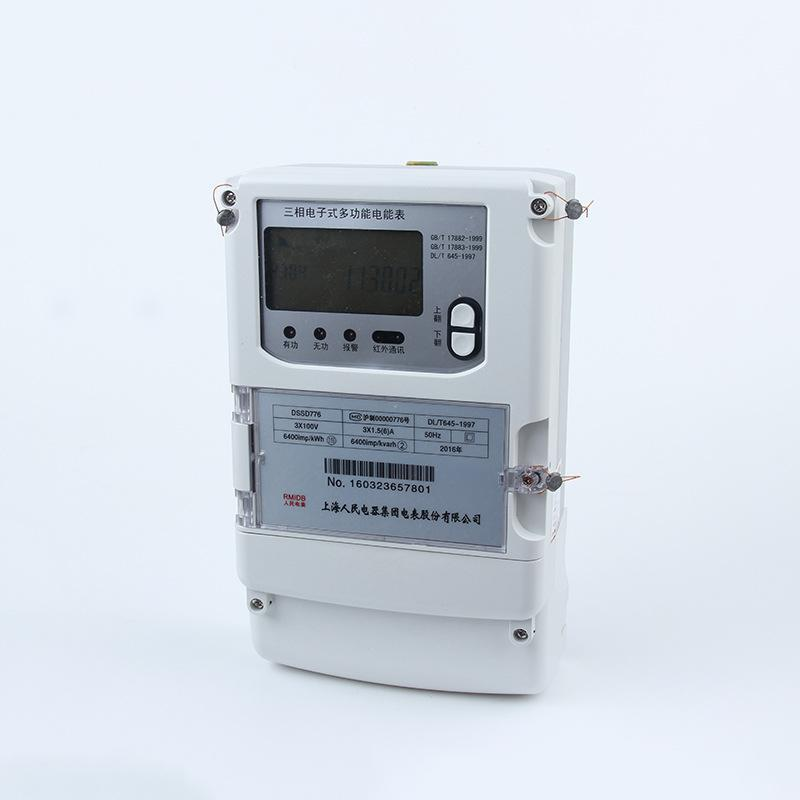digital: (225, 176, 543, 620)
